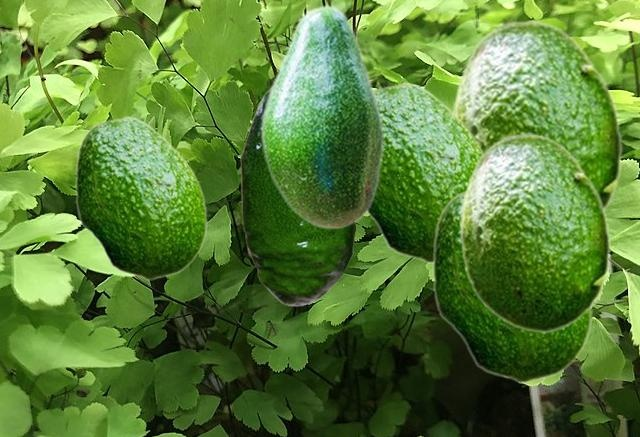avocado: (450, 20, 622, 212), (431, 188, 591, 382), (458, 133, 610, 332), (259, 4, 383, 229), (240, 88, 355, 305), (74, 115, 206, 279), (367, 81, 484, 262)
